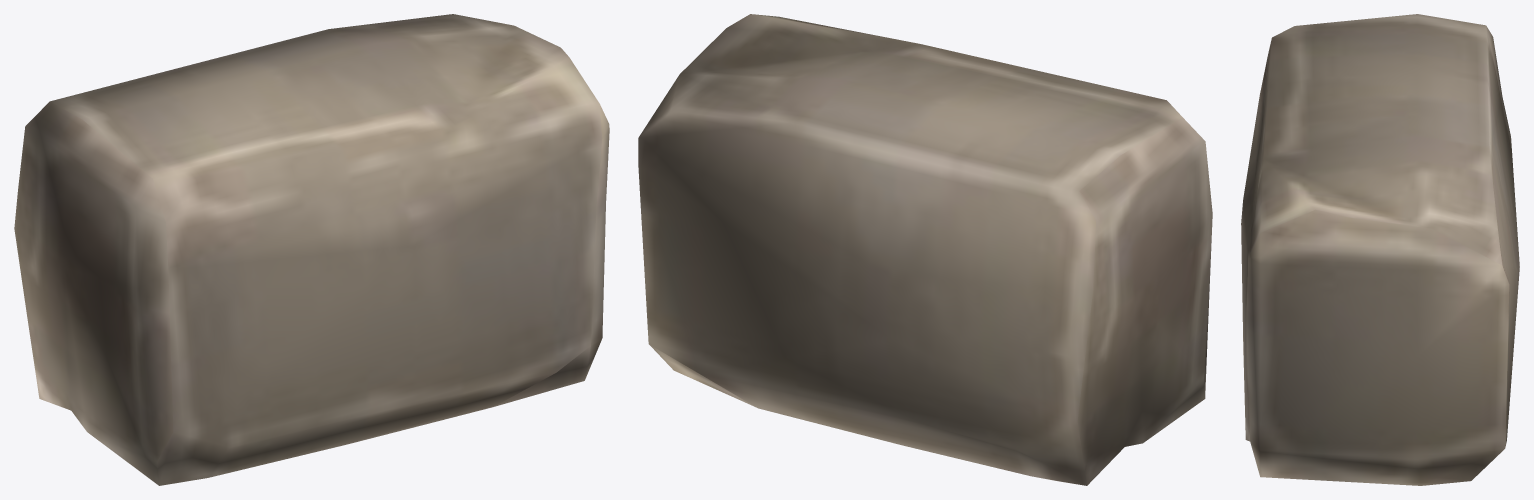
File: Prop_Brick3.gltf
The picture shows the model from 3 angles, left to right: view 1: azimuth 30°, elevation 25°; view 2: azimuth 150°, elevation 25°; view 3: azimuth 270°, elevation 25°; orthographic projection. The views are drawn at different scales.
Visible parts, largest first — view 1: Prop_Brick3; view 2: Prop_Brick3; view 3: Prop_Brick3.
Boxes of the visible parts, box(x1,y1,x2,y2) form: Prop_Brick3: box(14, 14, 609, 485); Prop_Brick3: box(638, 14, 1212, 485); Prop_Brick3: box(1241, 14, 1519, 485).
Bounding box in the file's own units: 0.3814 × 0.2497 × 0.2156.
Materials: 1 (1 with a texture image).
